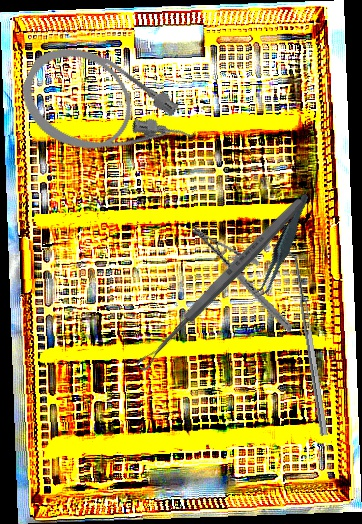Cannula: (7, 29, 207, 194)
Needle Holder: (171, 225, 313, 333)
Spatula Surgical: (284, 247, 328, 437)
Surgical Spoon: (134, 195, 307, 373)
Tissue Forceps: (236, 192, 329, 301)
